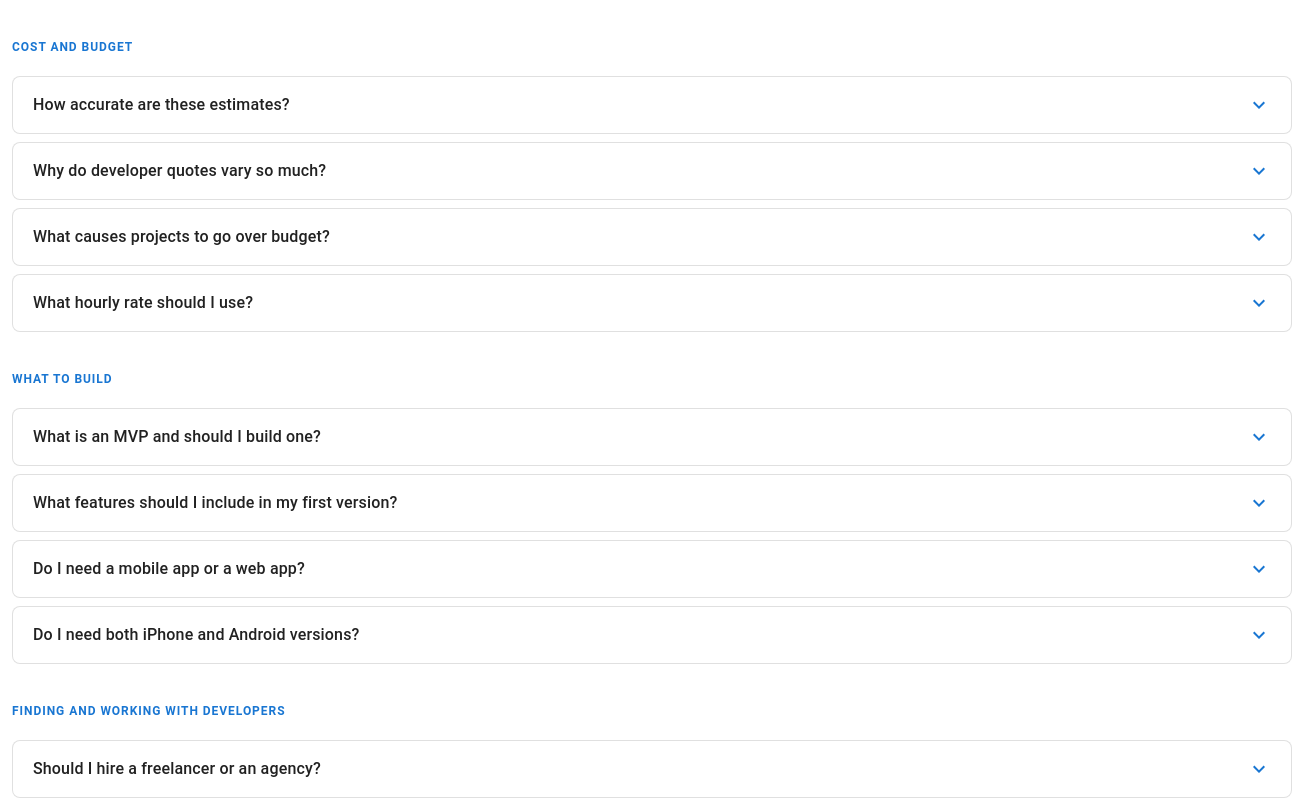
Scenario: FaqContent › accordion expand behavior › only one accordion is open at a time — opening a second closes the first
Open the first accordion
Click the button "How accurate are these estimates?" at (161, 104), box [13, 77, 1291, 133]
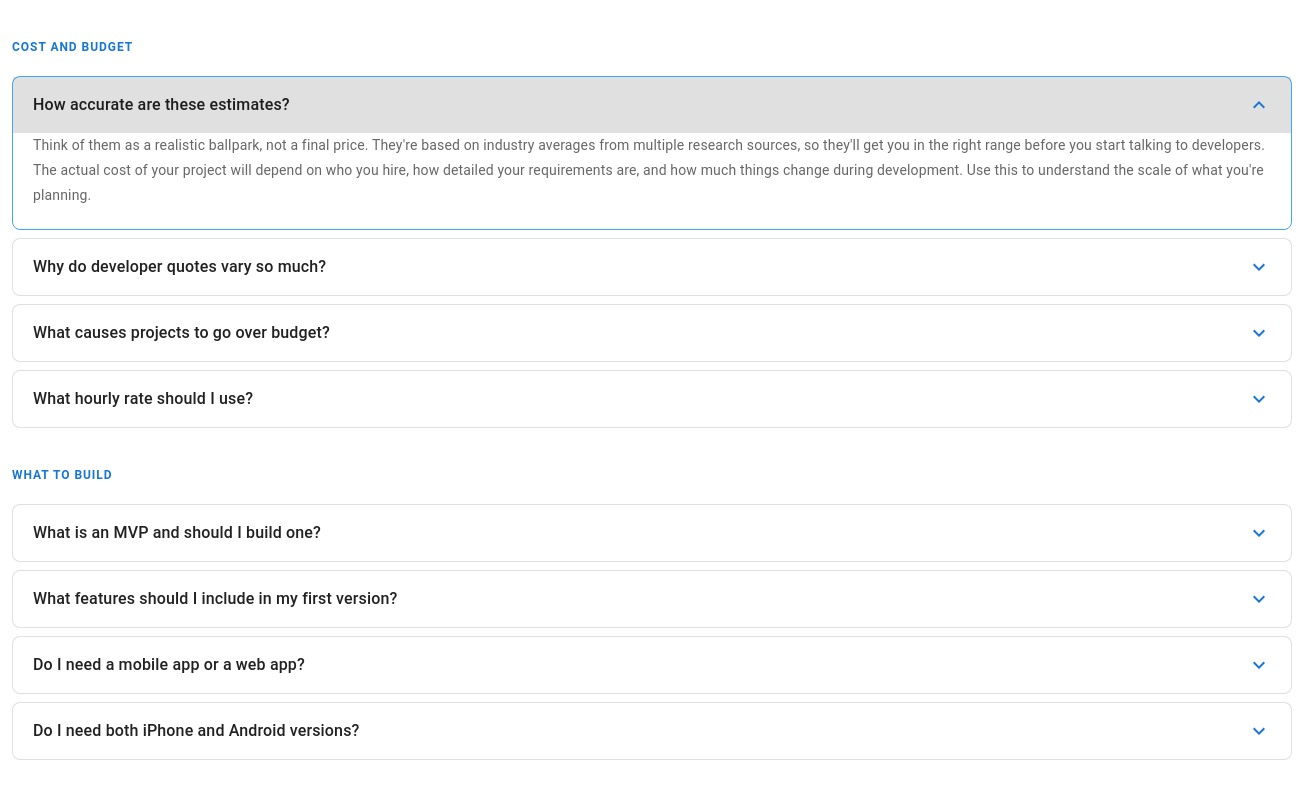
Expected: the button "How accurate are these estimates?" is expanded, [13, 77, 1291, 133]
Open the second accordion — the first should close
Click the button "Why do developer quotes vary so much?" at (180, 266), box [13, 239, 1291, 295]
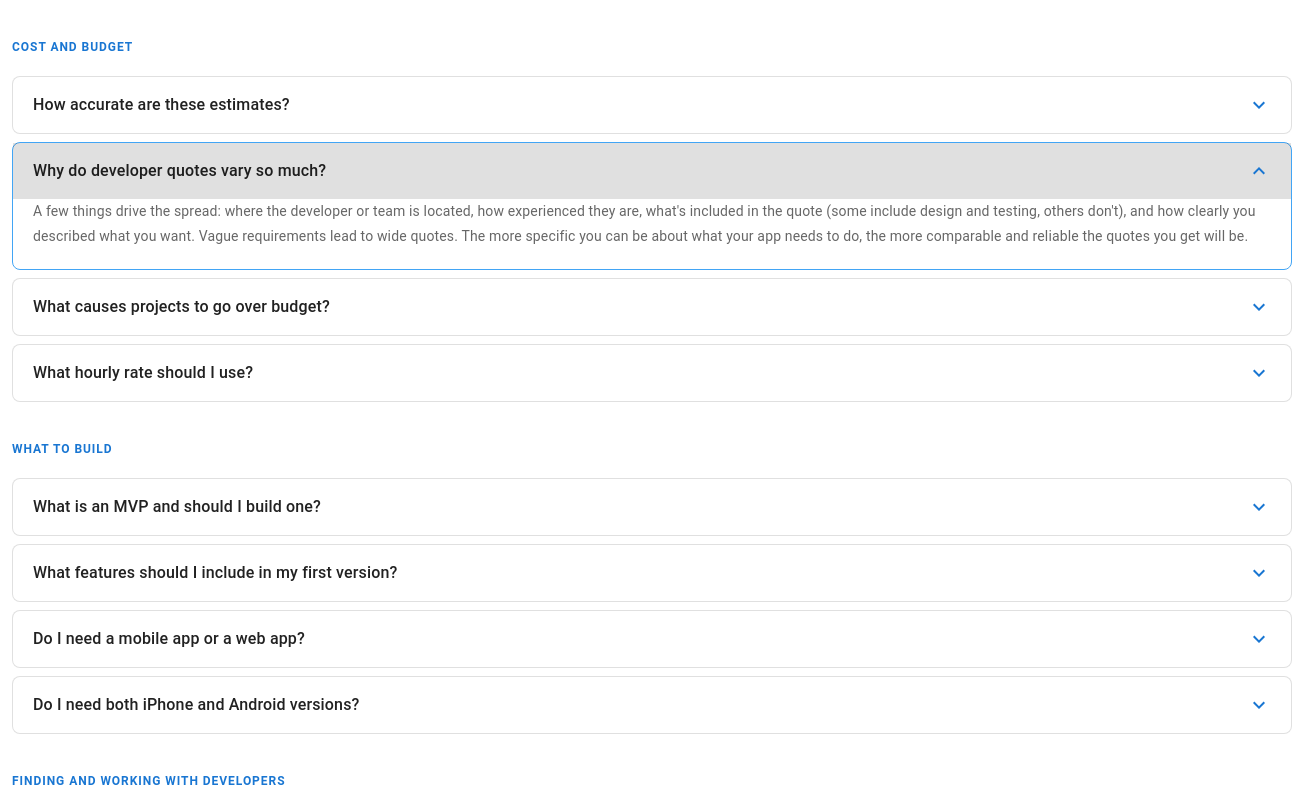
Expected: the button "Why do developer quotes vary so much?" is expanded, [13, 143, 1291, 199]
Expected: the button "How accurate are these estimates?" is collapsed, [13, 77, 1291, 133]
